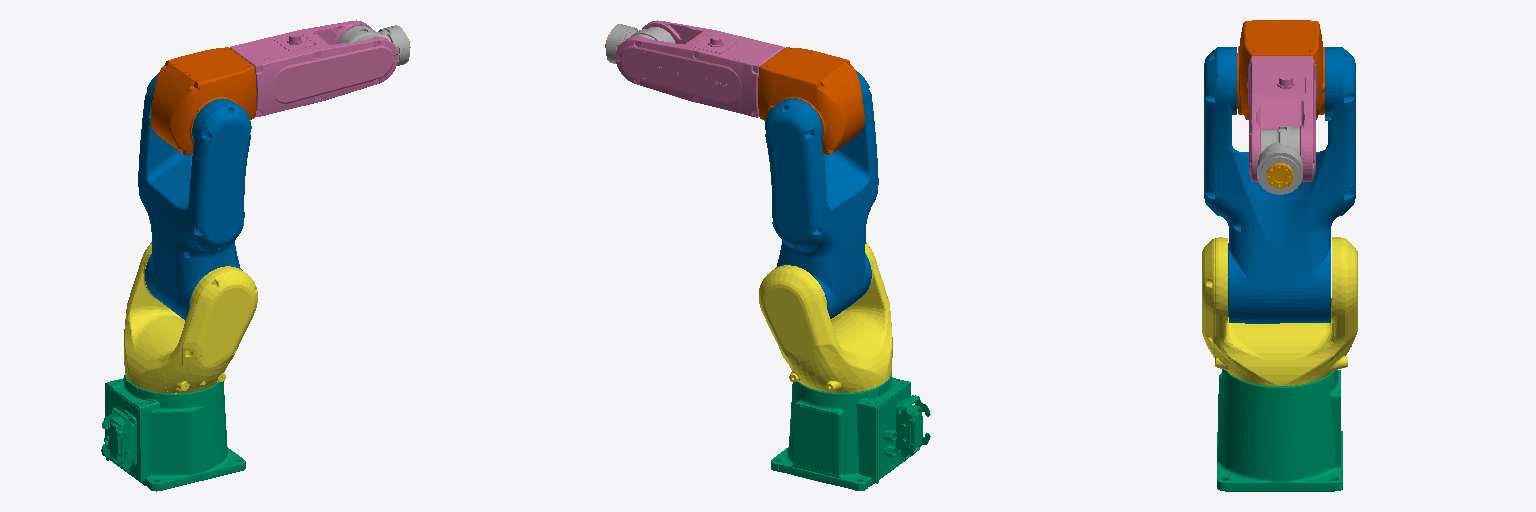
The robot description file, URDF, robot "lrmate200id":
<?xml version="1.0" ?>
<!-- =================================================================================== -->
<!-- |    This document was autogenerated by xacro from /private/tmp/claude-501/-Users-shivenagarwal-GamifyAssessment/c046c7c0-0859-4fd1-9e65-e5f7bbbc8139/scratchpad/cells/fanuc_description/fanuc_lrmate_description/robot/lrmate200id.urdf.xacro | -->
<!-- |    EDITING THIS FILE BY HAND IS NOT RECOMMENDED                                 | -->
<!-- =================================================================================== -->
<robot name="lrmate200id">
  <link name="world"/>
  <link name="ee_link"/>
  <!-- links -->
  <link name="base_link">
    <visual>
      <origin rpy="0 0 0" xyz="0 0 0"/>
      <geometry>
        <mesh filename="meshes/lrm_base.obj"/>
      </geometry>
    </visual>
    
    <inertial>
      <mass value=" 5.3"/>
      <origin xyz="-.0146 -.000342  .0796"/>
      <inertia ixx=" .025" ixy="-.000574" ixz=" .000296" iyy=" .0305" iyz="-.000122" izz=" .0322"/>
    </inertial>
  </link>
  <link name="J1_link">
    <visual>
      <origin rpy="0 0 0" xyz="0 0 0"/>
      <geometry>
        <mesh filename="meshes/lrm_j1.obj"/>
      </geometry>
    </visual>
    
    <inertial>
      <mass value=" 5.62"/>
      <origin xyz=" .0287  .000102 -.0547"/>
      <inertia ixx=" .0417" ixy=" .0000238" ixz="-.00552" iyy=" .0303" iyz=" .000122" izz=" .0322"/>
    </inertial>
  </link>
  <link name="J2_link">
    <visual>
      <origin rpy="0 0 0" xyz="0 0 0"/>
      <geometry>
        <mesh filename="meshes/lrm_j2.obj"/>
      </geometry>
    </visual>
    
    <inertial>
      <mass value=" 9.05"/>
      <origin xyz="-.00271 -.000976  .159"/>
      <inertia ixx=" .159" ixy=" .0000335" ixz=" .000154" iyy=" .136" iyz="-.00108" izz=" .0429"/>
    </inertial>
  </link>
  <link name="J3_link">
    <visual>
      <origin rpy="0 0 0" xyz="0 0 0"/>
      <geometry>
        <mesh filename="meshes/lrm_j3.obj"/>
      </geometry>
    </visual>
    
    <inertial>
      <mass value=" 2.15"/>
      <origin xyz=" .00887 -.0000626  .0171"/>
      <inertia ixx=" .00585" ixy="-.000046" ixz="-.000622" iyy=" .00665" iyz="-.0000461" izz=" .00669"/>
    </inertial>
  </link>
  <link name="J4_link">
    <visual>
      <origin rpy="0 0 0" xyz="0 0 0"/>
      <geometry>
        <mesh filename="meshes/lrm_j4.obj"/>
      </geometry>
    </visual>
    
    <inertial>
      <mass value=" 2.42"/>
      <origin xyz=" .223  .00356  .00215"/>
      <inertia ixx=" .00395" ixy=" .000000261" ixz=" .0000725" iyy=" .0171" iyz="-.00000947" izz=" .0171"/>
    </inertial>
  </link>
  <link name="J5_link">
    <visual>
      <origin rpy="0 0 0" xyz="0 0 0"/>
      <geometry>
        <mesh filename="meshes/lrm_j5.obj"/>
      </geometry>
    </visual>
    
    <inertial>
      <mass value=" .446"/>
      <origin xyz=" .0177  .0025 -.00000419"/>
      <inertia ixx=" .000339" ixy=" .0000187" ixz="-.0000000209" iyy=" .000601" iyz="-.0000000171" izz=" .000563"/>
    </inertial>
  </link>
  <link name="J6_link">
    <visual>
      <origin rpy="0 0 0" xyz="0 0 0"/>
      <geometry>
        <mesh filename="meshes/lrm_j6.obj"/>
      </geometry>
    </visual>
    
    <inertial>
      <mass value=" .0134"/>
      <origin xyz=" .074  3.35E-18 -4.88E-19"/>
      <inertia ixx=" .00000275" ixy=" 7.09E-21" ixz="-4.25E-22" iyy=" .00000153" iyz="-1.05E-22" izz=" .00000153"/>
    </inertial>
  </link>
  <!-- joints -->
  <joint name="J1" type="revolute">
    <origin rpy="0 0 0" xyz=" 0  0  .33"/>
    <parent link="base_link"/>
    <child link="J1_link"/>
    <axis xyz=" 0  0  1"/>
    <limit effort="500" lower="-3.141592653589793" upper="3.141592653589793" velocity="7.853981633974483"/>
  </joint>
  <joint name="J2" type="revolute">
    <origin rpy="0 0 0" xyz=" .05  0  0"/>
    <parent link="J1_link"/>
    <child link="J2_link"/>
    <axis xyz=" 0  1  0"/>
    <limit effort="500" lower="-1.7453292519943295" upper="2.530727415391778" velocity="6.632251157578453"/>
  </joint>
  <joint name="J3" type="revolute">
    <origin rpy="0 0 0" xyz=" 0  0  .33"/>
    <parent link="J2_link"/>
    <child link="J3_link"/>
    <axis xyz=" 0 -1  0"/>
    <limit effort="200" lower="-1.2217304763960306" upper="3.5779249665883754" velocity="9.075712110370514"/>
  </joint>
  <joint name="J4" type="revolute">
    <origin rpy="0 0 0" xyz=" 0  0  .035"/>
    <parent link="J3_link"/>
    <child link="J4_link"/>
    <axis xyz="-1  0  0"/>
    <limit effort="70" lower="-3.3161255787892263" upper="3.3161255787892263" velocity="9.599310885968812"/>
  </joint>
  <joint name="J5" type="revolute">
    <origin rpy="0 0 0" xyz=" .335  0  0"/>
    <parent link="J4_link"/>
    <child link="J5_link"/>
    <axis xyz=" 0 -1  0"/>
    <limit effort="40" lower="-2.181661564992912" upper="2.181661564992912" velocity="9.512044423369096"/>
  </joint>
  <joint name="J6" type="revolute">
    <origin rpy="0 0 0" xyz=" 0  0  0"/>
    <parent link="J5_link"/>
    <child link="J6_link"/>
    <axis xyz="-1  0  0"/>
    <limit effort="20" lower="-6.283185307179586" upper="6.283185307179586" velocity="17.453292519943297"/>
  </joint>
  <!-- world coords -->
  <link name="wbase"/>
  <joint name="base_link-wbase" type="fixed">
    <origin rpy="0 0 0" xyz=" 0  0  .33"/>
    <parent link="base_link"/>
    <child link="wbase"/>
  </joint>
  <!-- flange coords -->
  <link name="flange"/>
  <joint name="J6-flange" type="fixed">
    <origin rpy="0 0 0" xyz=" .08  0  0"/>
    <parent link="J6_link"/>
    <child link="flange"/>
  </joint>
  <!-- FANUC flange coords -->
  <link name="fanuc_flange"/>
  <joint name="flange-fanuc_flange" type="fixed">
    <origin rpy="3.141592653589793 -1.5707963267948966 0.0" xyz="0 0 0"/>
    <parent link="flange"/>
    <child link="fanuc_flange"/>
  </joint>
  <!-- Attach to parent -->
  <joint name="base_joint" type="fixed">
    <origin rpy="0 0 0" xyz="0 0 0"/>
    <parent link="world"/>
    <child link="base_link"/>
  </joint>
  <!-- Attach child -->
  <joint name="child_joint" type="fixed">
    <origin rpy="0 0 0" xyz="0 0 0"/>
    <parent link="flange"/>
    <child link="ee_link"/>
  </joint>
<mujoco><compiler strippath="false" discardvisual="false"/></mujoco></robot>

--- Facts derived from the render (not from the file) ---
Views: 3 orthographic renders of the robot side by side, from view 1: azimuth 30°, elevation 25°; view 2: azimuth 150°, elevation 25°; view 3: azimuth 270°, elevation 25°.
Robot: lrmate200id — 12 links, 11 joints (6 revolute, 5 fixed); root link world; default pose: every joint at zero.
Visible links, largest first — view 1: J2_link, J1_link, base_link, J4_link, J3_link, J5_link; view 2: J2_link, base_link, J1_link, J4_link, J3_link, J5_link; view 3: J2_link, base_link, J1_link, J4_link, J3_link, J5_link, J6_link.
Boxes of the visible links, <box> form: J2_link: <box>138,73,251,320</box>; J1_link: <box>124,242,257,393</box>; base_link: <box>101,375,245,491</box>; J4_link: <box>230,20,397,116</box>; J3_link: <box>150,47,256,155</box>; J5_link: <box>338,25,409,65</box>; J2_link: <box>765,71,878,318</box>; base_link: <box>771,373,930,490</box>; J1_link: <box>759,242,892,392</box>; J4_link: <box>616,20,784,117</box>; J3_link: <box>758,47,864,154</box>; J5_link: <box>606,24,674,63</box>; J2_link: <box>1204,47,1355,323</box>; base_link: <box>1217,369,1342,491</box>; J1_link: <box>1202,237,1357,385</box>; J4_link: <box>1247,56,1316,181</box>; J3_link: <box>1237,20,1324,119</box>; J5_link: <box>1257,126,1302,194</box>; J6_link: <box>1267,163,1292,187</box>.
Bounding box of the posed robot: 0.6104 × 0.235 × 0.7589 m (x, y, z).
Meshes: 7 distinct files referenced, 7 mesh visuals loaded (7 OBJ).
